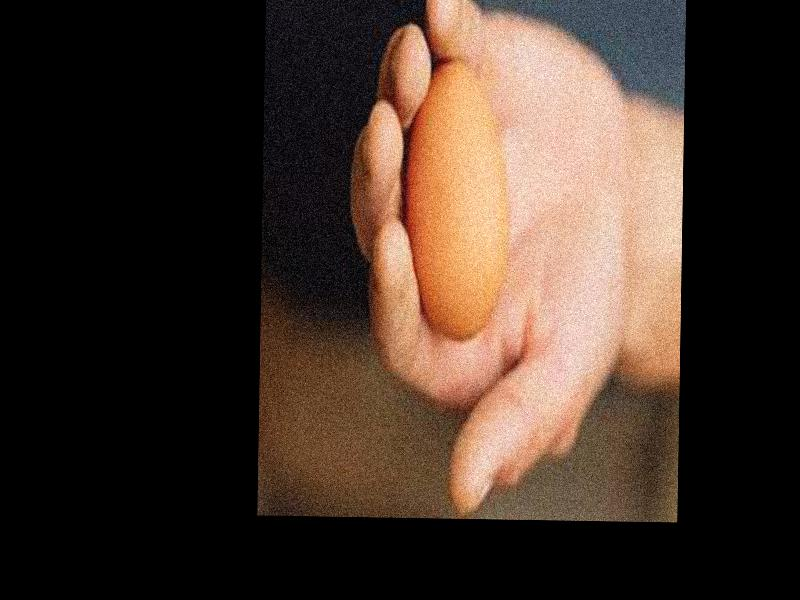Eggs: (406, 58, 510, 338)
